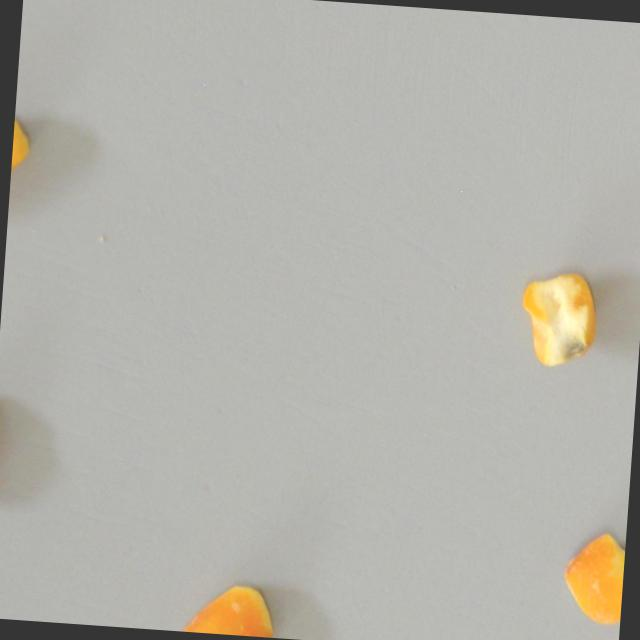dañado: (504, 264, 625, 380), (544, 516, 627, 630), (173, 577, 289, 638), (5, 108, 40, 237), (0, 390, 18, 519)
